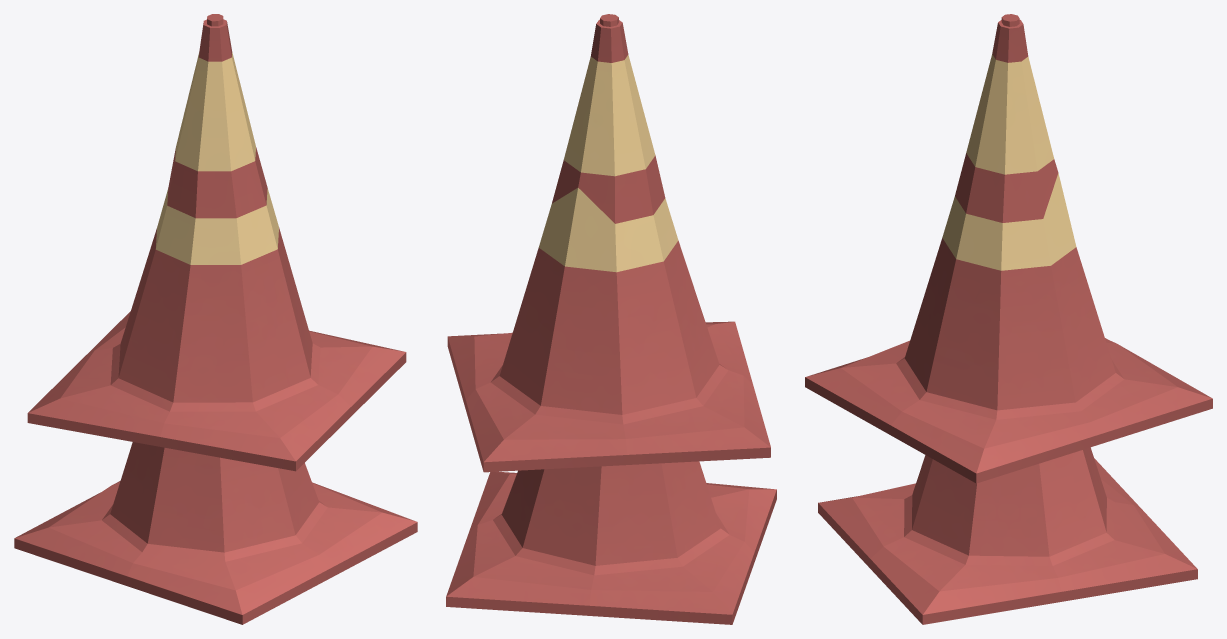
The model's file is road_cone_cluster.glb.
3 views of the same model, side by side, from view 1: azimuth 30°, elevation 25°; view 2: azimuth 150°, elevation 25°; view 3: azimuth 270°, elevation 25° (orthographic). The views are drawn at different scales.
Visible parts, largest first — view 1: road_cone_cluster; view 2: road_cone_cluster; view 3: road_cone_cluster.
Part boxes in pixels (x1,y1,x2,y2): road_cone_cluster: [14, 14, 417, 624]; road_cone_cluster: [446, 14, 776, 624]; road_cone_cluster: [805, 14, 1212, 624].
Bounding box in the file's own units: 0.7769 × 1.12 × 0.7808.
Materials: 1 (1 with a texture image).
